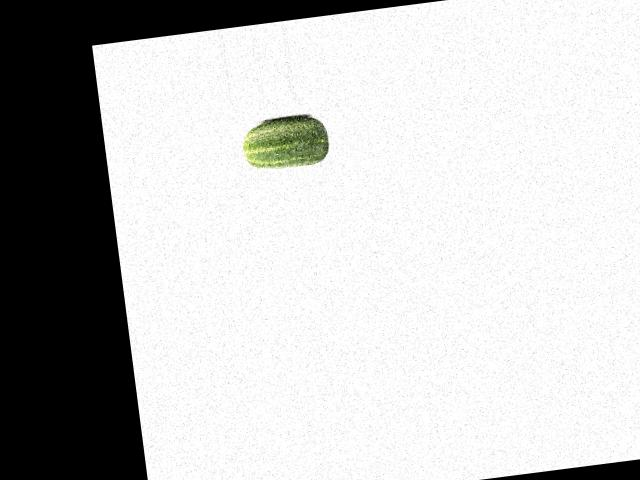cucumber: (240, 112, 332, 172)
